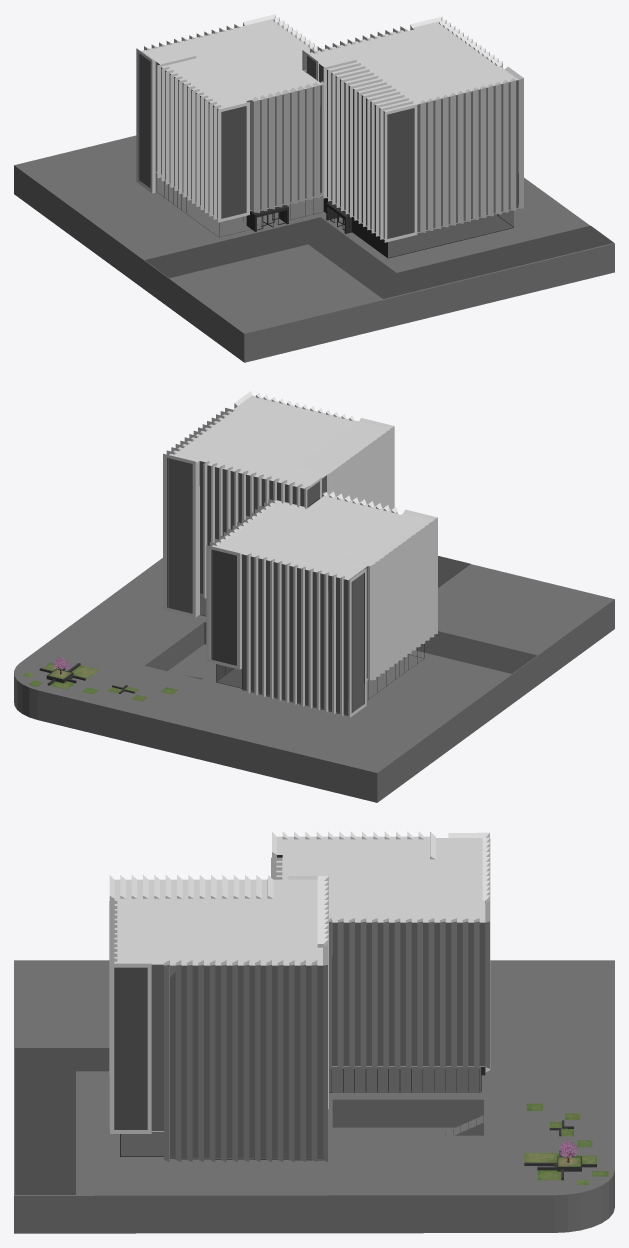
The model's file is block.glb.
The picture shows the model from 3 angles, top to bottom: view 1: azimuth 30°, elevation 25°; view 2: azimuth 150°, elevation 25°; view 3: azimuth 270°, elevation 25°; orthographic projection. The views are drawn at different scales.
Parts seen in each view (by area): view 1: 地面, 条, 窗帘, 玻璃, 天花板, 路, 门框; view 2: 地面, 条, 窗帘, 玻璃, 天花板, 路, 麦当劳, 草地; view 3: 地面, 条, 玻璃, 窗帘, 天花板, 路, 麦当劳, 草地, 门框, 石.
Part boxes in pixels (bbox=[...]): 地面: bbox=[14, 135, 614, 362]; 条: bbox=[136, 14, 523, 242]; 窗帘: bbox=[138, 52, 518, 238]; 玻璃: bbox=[138, 53, 518, 257]; 天花板: bbox=[142, 18, 518, 111]; 路: bbox=[145, 217, 613, 298]; 门框: bbox=[157, 181, 513, 258]; 地面: bbox=[14, 558, 614, 802]; 条: bbox=[163, 391, 437, 717]; 窗帘: bbox=[167, 458, 367, 714]; 玻璃: bbox=[166, 458, 367, 715]; 天花板: bbox=[169, 395, 424, 579]; 路: bbox=[416, 556, 536, 673]; 麦当劳: bbox=[145, 622, 222, 679]; 草地: bbox=[22, 663, 177, 701]; 地面: bbox=[14, 960, 614, 1233]; 条: bbox=[109, 831, 490, 1161]; 玻璃: bbox=[114, 923, 484, 1159]; 窗帘: bbox=[114, 901, 485, 1158]; 天花板: bbox=[114, 838, 485, 965]; 路: bbox=[15, 1048, 109, 1194]; 麦当劳: bbox=[332, 1099, 483, 1135]; 草地: bbox=[524, 1103, 608, 1184]; 门框: bbox=[120, 1067, 485, 1160]; 石: bbox=[524, 1120, 596, 1180].
Size of what is drawn, in the model's own units: 51.25 by 23.88 by 55.22.
10 materials, 3 textured.
